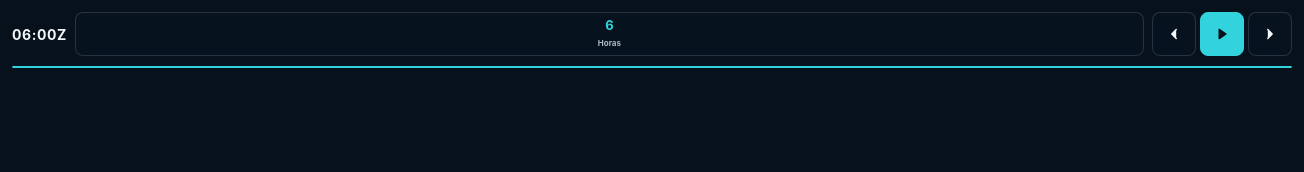
Test: Timeline › keeps transport visible and reveals all timestamps explicitly in compact mode
Expected: the button named "Timestamp anterior" is shown, [1152, 12, 1196, 56]
Expected: the button named "Iniciar reproducción" is shown, [1200, 12, 1244, 56]
Click the button with aria-label "Mostrar los seis timestamps". click: (609, 34)
box: [75, 12, 1144, 56]
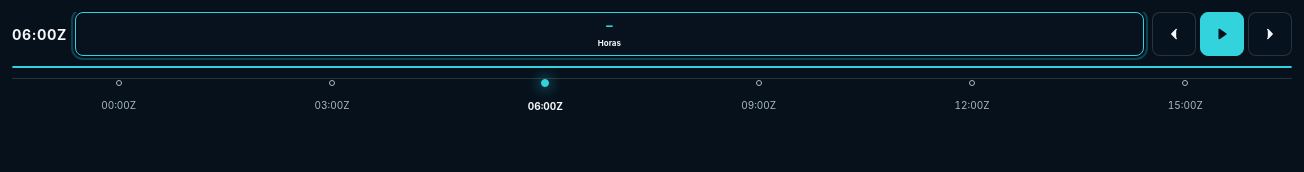
Now the number of buttons named "Seleccionar " is 6, box [12, 79, 225, 123]; [225, 79, 439, 123]; [439, 79, 652, 123]; [652, 79, 865, 123]; [865, 79, 1079, 123]; [1079, 79, 1292, 123]
